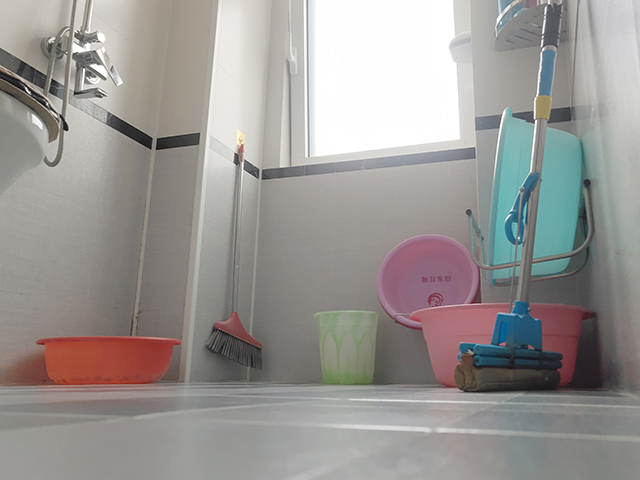trashcan: (310, 308, 381, 387)
